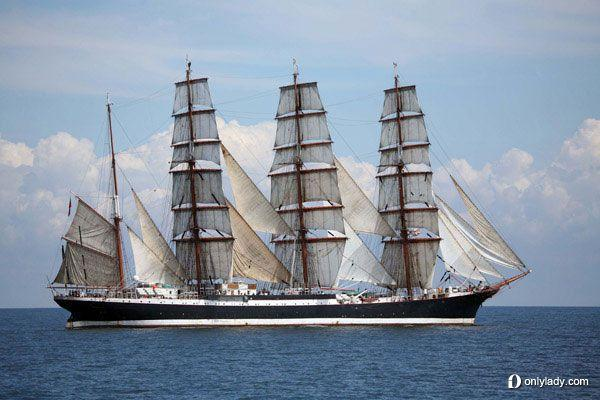fanchuan: (49, 53, 531, 335)
